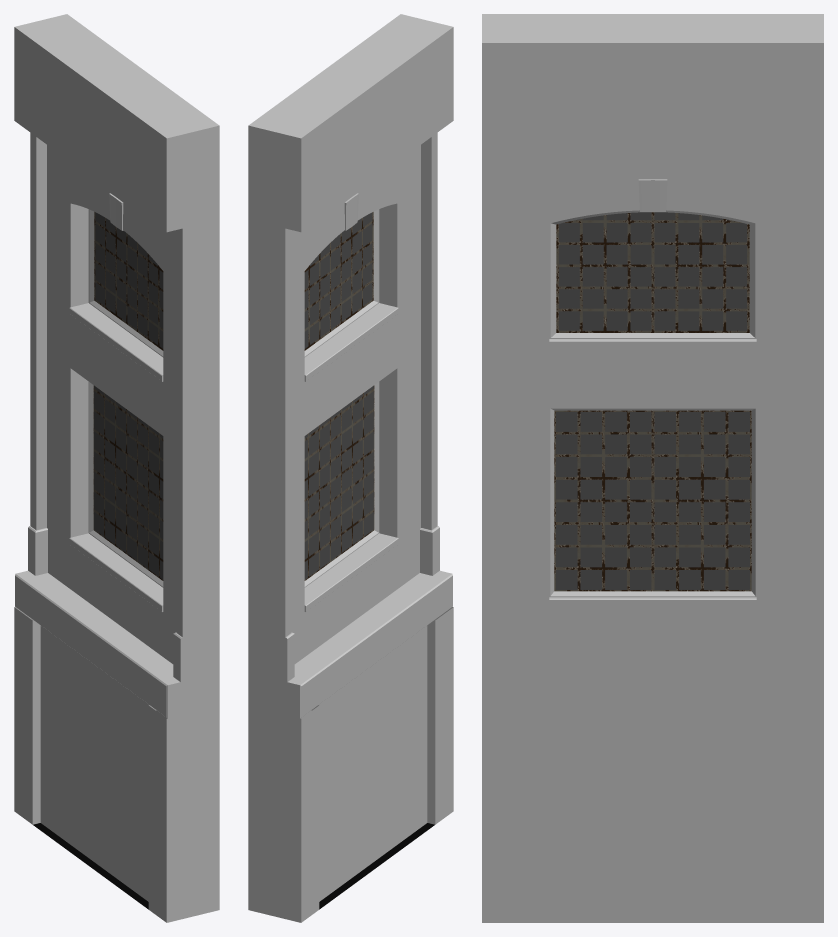
File: WallWindow.fbx
3 views of the same model, side by side, from view 1: azimuth 30°, elevation 25°; view 2: azimuth 150°, elevation 25°; view 3: azimuth 270°, elevation 25° (orthographic). The views are drawn at different scales.
Visible parts, largest first — view 1: WallWindow, FloorFoundation, WindowGlassInner; view 2: WallWindow, FloorFoundation, WindowGlassInner; view 3: WallWindow, FloorFoundation, WindowGlassOuter.
Part boxes in pixels (x1=…): WallWindow: x1=14, y1=14, x2=219, y2=681; FloorFoundation: x1=14, y1=570, x2=219, y2=922; WindowGlassInner: x1=93, y1=212, x2=163, y2=580; WallWindow: x1=248, y1=14, x2=453, y2=681; FloorFoundation: x1=248, y1=570, x2=453, y2=922; WindowGlassInner: x1=304, y1=212, x2=374, y2=580; WallWindow: x1=482, y1=14, x2=823, y2=656; FloorFoundation: x1=482, y1=656, x2=823, y2=922; WindowGlassOuter: x1=554, y1=212, x2=751, y2=591.
Bounding box in the file's own units: 103 × 1420 × 500.
